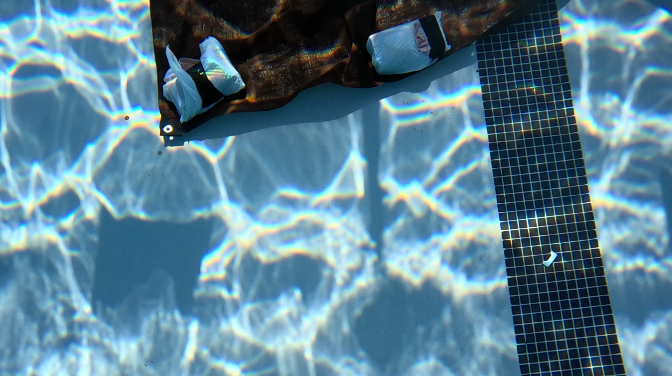sandbag: (149, 0, 536, 135)
